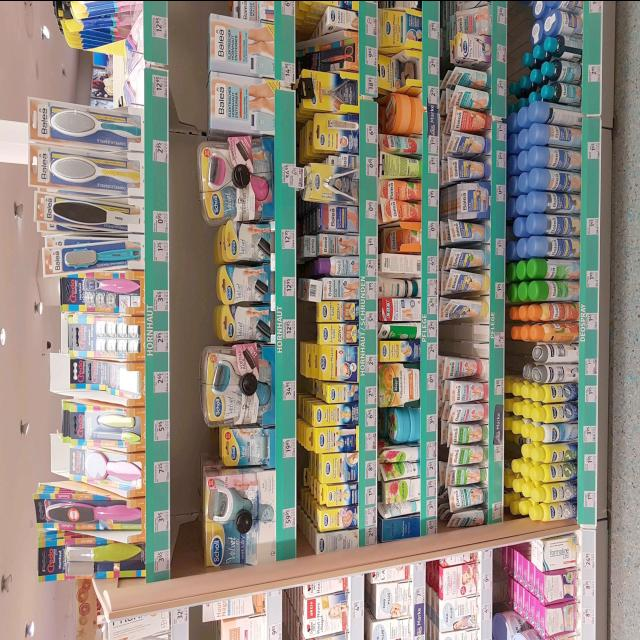empty_space: (439, 321, 485, 351)
